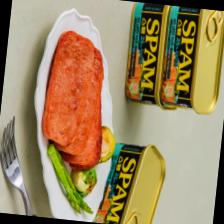spam: (157, 5, 224, 117), (92, 138, 169, 224), (121, 1, 170, 108)
